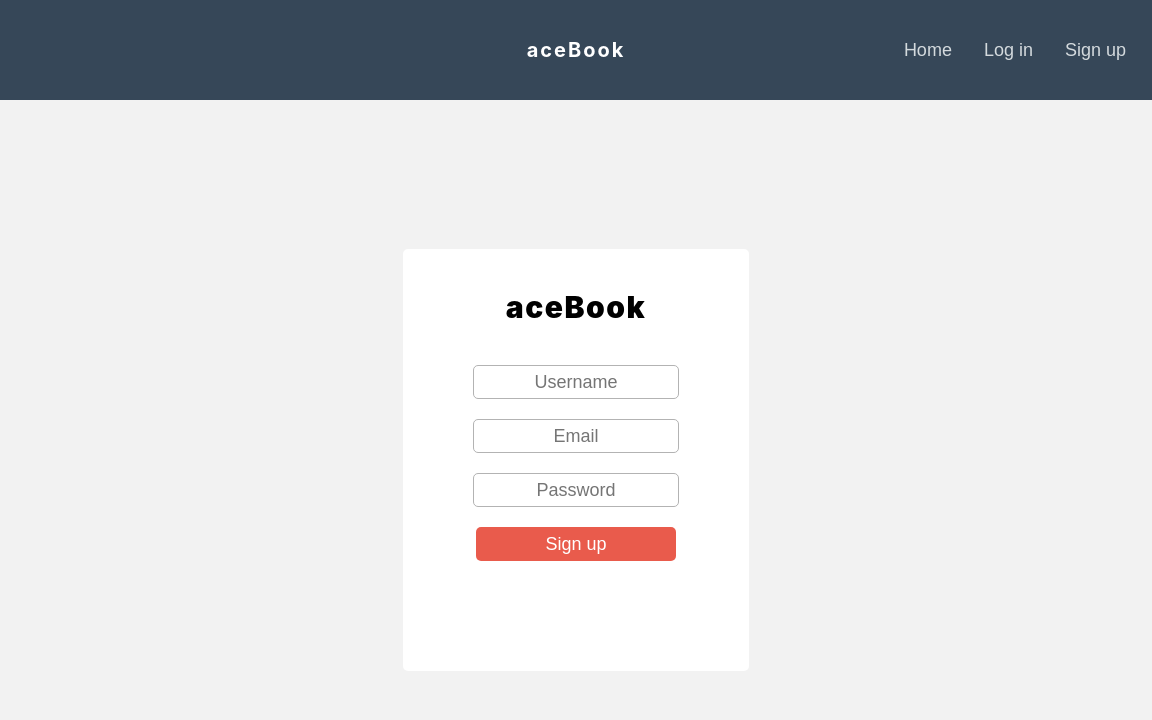
Test: Signup Page › displays password security prompt when user entering password
Type "pass" into the password field with placeholder "Password" at (576, 490), box [473,473,679,507]
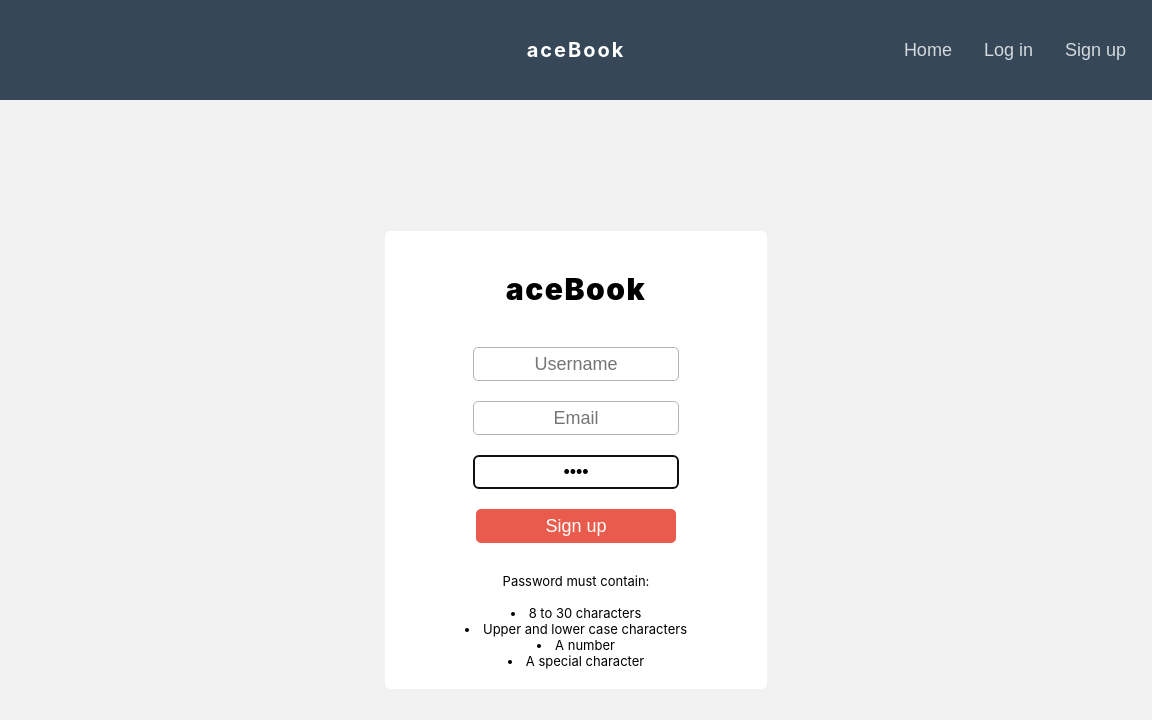
Now the text "Password must contain:" is shown, box [503,573,649,589]
